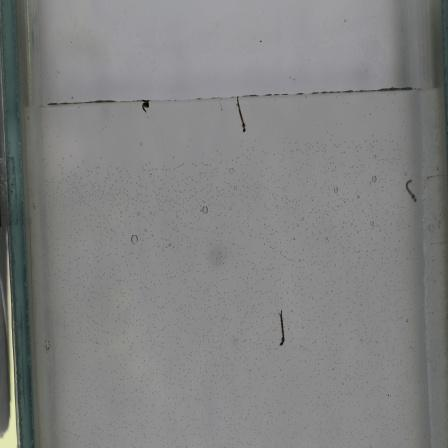Jentik-Nyamuk: (271, 305, 295, 352), (231, 96, 249, 139), (402, 172, 420, 211), (139, 98, 155, 115)
